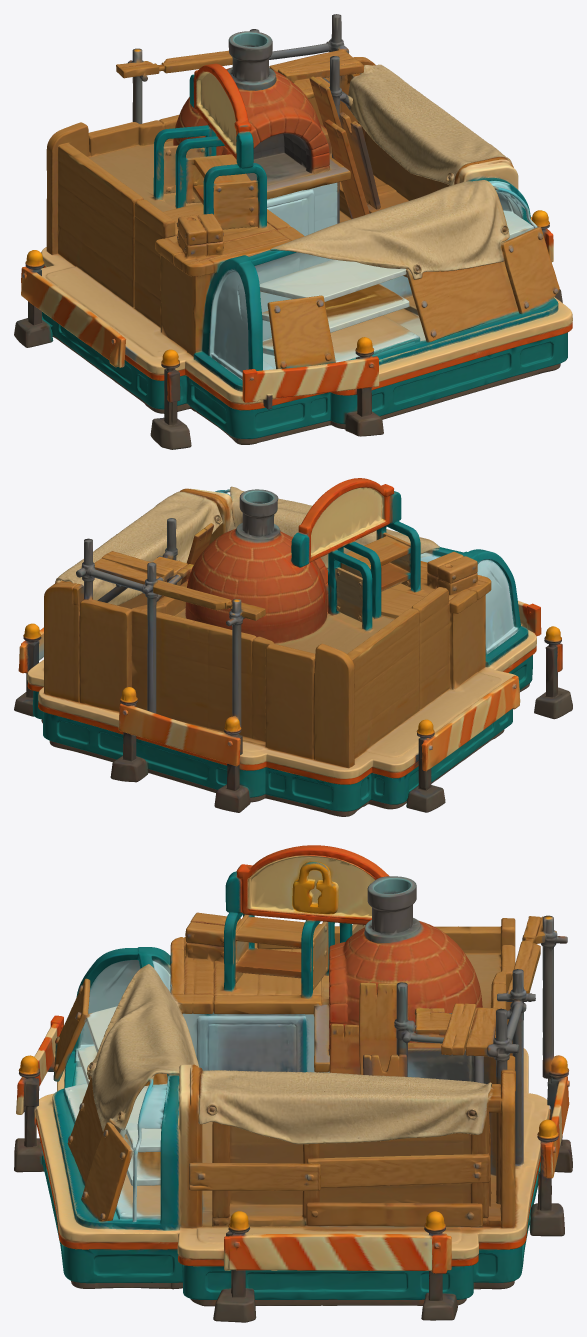
File: BakeryConstruction.fbx
3 renders of one model, top to bottom at view 1: azimuth 30°, elevation 25°; view 2: azimuth 150°, elevation 25°; view 3: azimuth 270°, elevation 25°, orthographic. The views are drawn at different scales.
Visible parts, largest first — view 1: tripo_node_caca0b7b-a899-4ee5-aa6f-c0f7bec2eaae; view 2: tripo_node_caca0b7b-a899-4ee5-aa6f-c0f7bec2eaae; view 3: tripo_node_caca0b7b-a899-4ee5-aa6f-c0f7bec2eaae.
Part boxes in pixels (box(x1,y1,x2,y2)): tripo_node_caca0b7b-a899-4ee5-aa6f-c0f7bec2eaae: box(14, 14, 572, 449); tripo_node_caca0b7b-a899-4ee5-aa6f-c0f7bec2eaae: box(14, 478, 572, 816); tripo_node_caca0b7b-a899-4ee5-aa6f-c0f7bec2eaae: box(14, 845, 572, 1322).
Size of the model in its own units: 98.03 by 57.07 by 92.27.
Materials: 1 (1 with a texture image).
